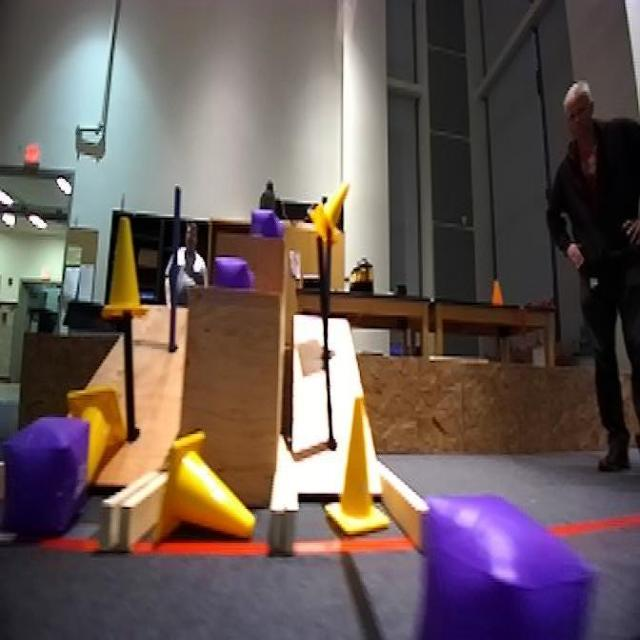frc_cone: (158, 431, 256, 552), (321, 393, 393, 538), (62, 385, 123, 490), (101, 215, 149, 316), (312, 177, 354, 249)
frc_cube: (416, 497, 592, 637), (1, 415, 88, 536), (214, 252, 252, 286), (250, 204, 284, 238)
